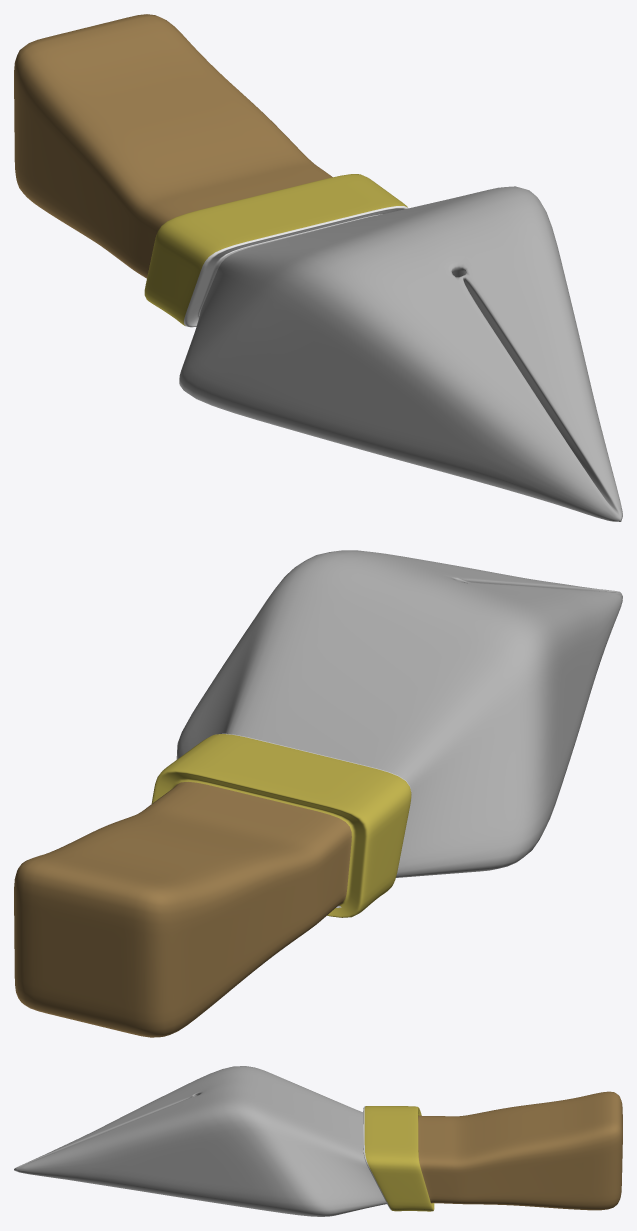
The model's file is pentool.glb.
3 views of the same model, one above another, from view 1: azimuth 30°, elevation 25°; view 2: azimuth 150°, elevation 25°; view 3: azimuth 270°, elevation 25° (orthographic). The views are drawn at different scales.
Visible parts, largest first — view 1: Cube; view 2: Cube; view 3: Cube.
Part boxes in pixels (left/top/right/bottom): Cube: left=14, top=14, right=622, bottom=521; Cube: left=14, top=550, right=622, bottom=1037; Cube: left=14, top=1066, right=622, bottom=1216.
Bounding box in the file's own units: 0.7197 × 0.4402 × 1.95.
